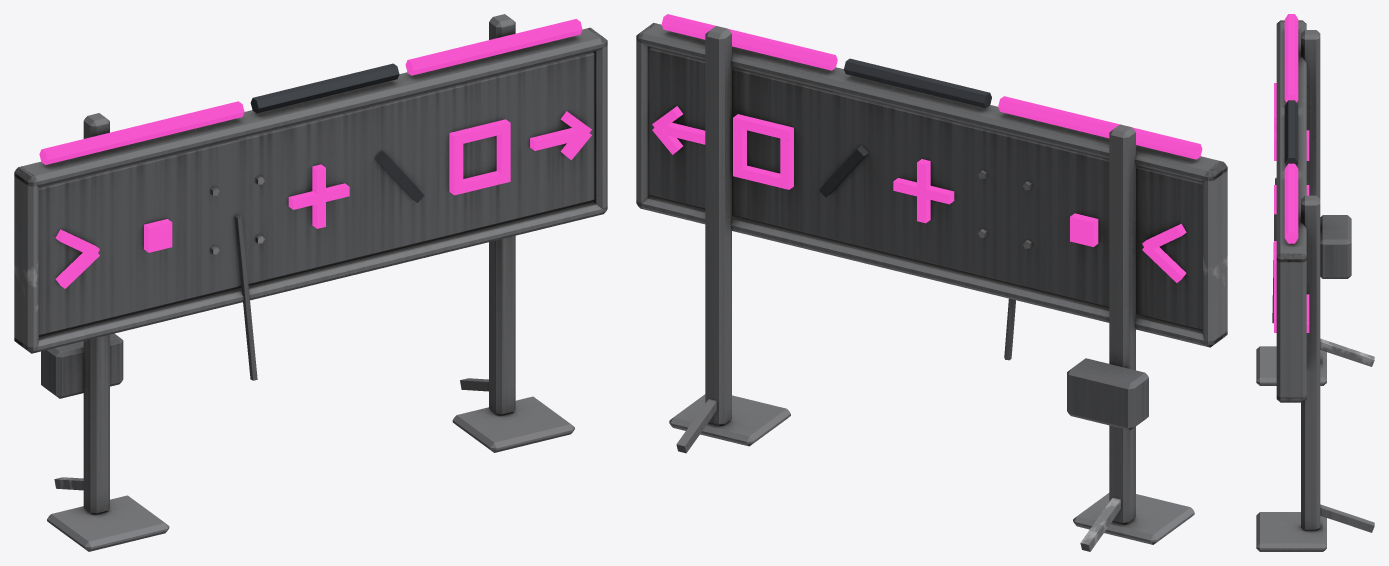
Rendered from nodexeus-set-sign-c.glb.
The picture shows the model from 3 angles, left to right: view 1: azimuth 30°, elevation 25°; view 2: azimuth 150°, elevation 25°; view 3: azimuth 270°, elevation 25°; orthographic projection. The views are drawn at different scales.
Parts seen in each view (by area): view 1: set-sign-c; view 2: set-sign-c; view 3: set-sign-c.
Boxes of the visible parts, left/top/right/bottom form: set-sign-c: left=14, top=14, right=607, bottom=551; set-sign-c: left=636, top=14, right=1227, bottom=551; set-sign-c: left=1256, top=14, right=1374, bottom=551.
Bounding box in the file's own units: 2.06 × 1.37 × 0.4352.
Materials: 1 (1 with a texture image).
